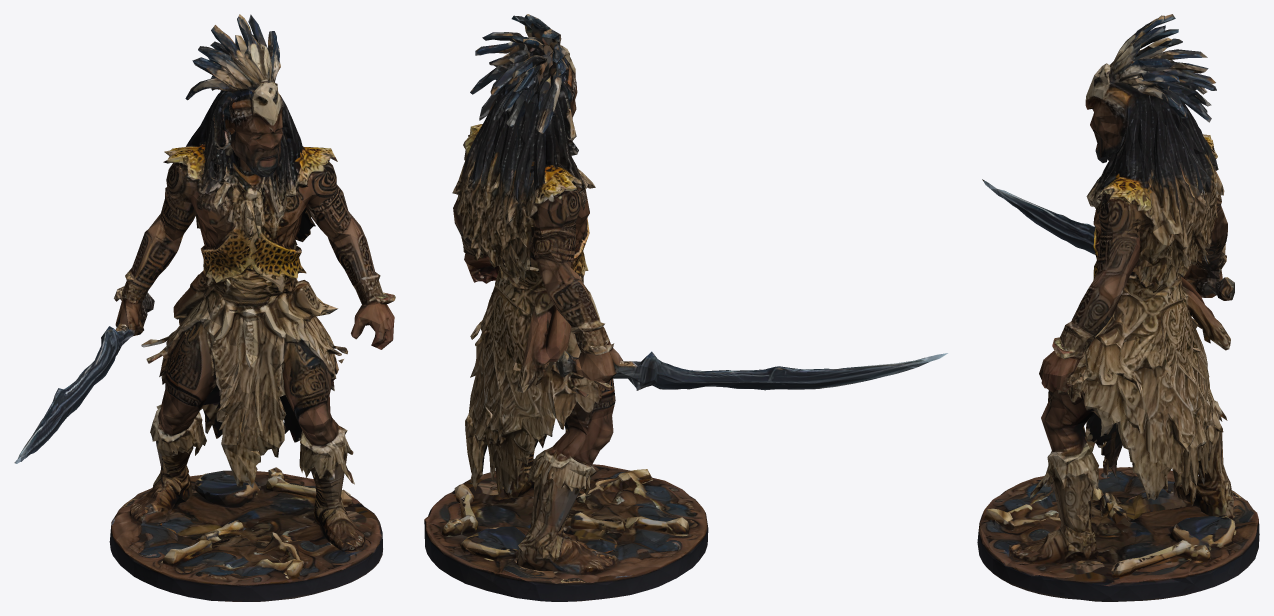
Rendered from barbarian_alt2_male.glb.
3 views of the same model, side by side, from view 1: azimuth 30°, elevation 25°; view 2: azimuth 150°, elevation 25°; view 3: azimuth 270°, elevation 25° (orthographic). The views are drawn at different scales.
Visible parts, largest first — view 1: textured_mesh.obj; view 2: textured_mesh.obj; view 3: textured_mesh.obj.
Boxes of the visible parts, left/top/right/bottom form: textured_mesh.obj: left=14, top=14, right=395, bottom=601; textured_mesh.obj: left=424, top=14, right=947, bottom=601; textured_mesh.obj: left=977, top=14, right=1259, bottom=601.
Size of the model in its own units: 1.71 by 1.99 by 0.9492.
1 material, 1 textured.
